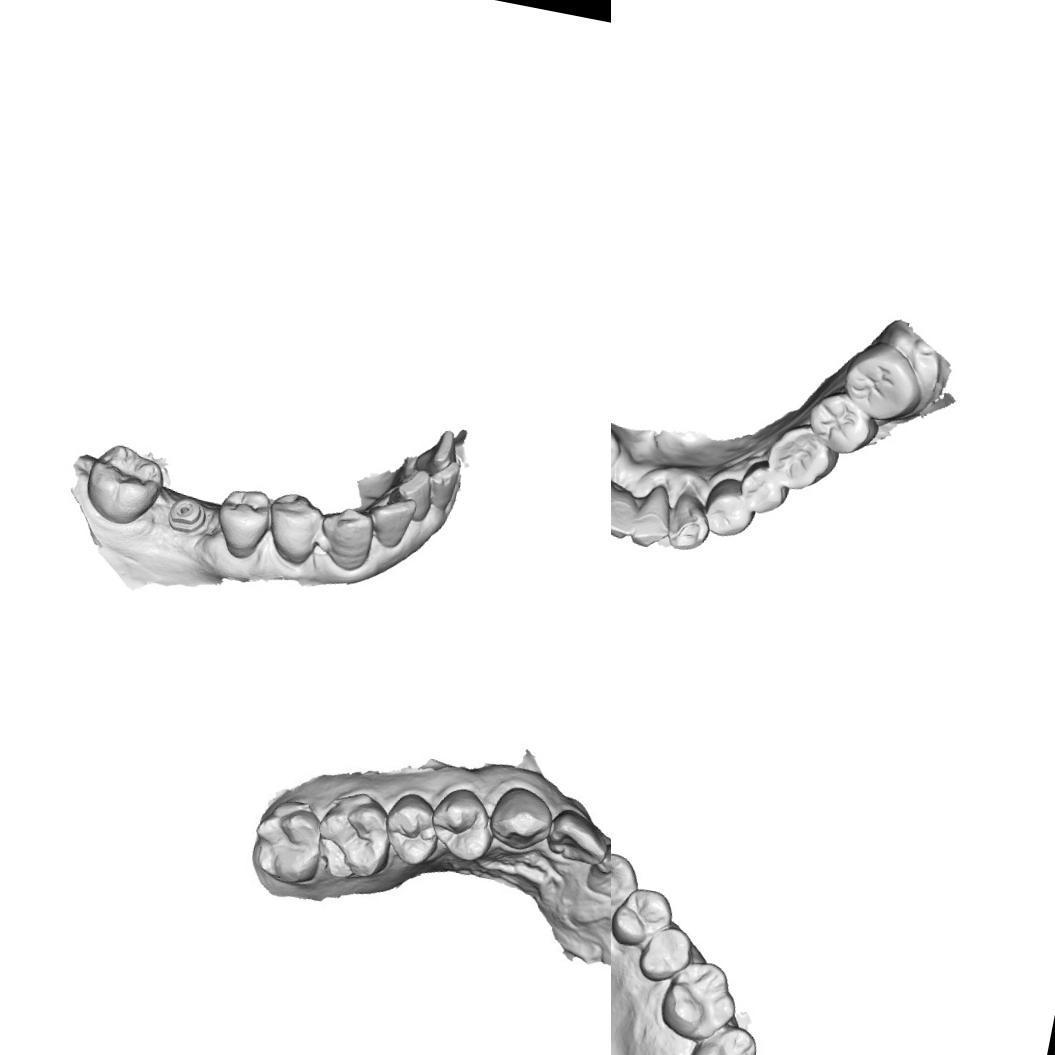canine: (484, 780, 558, 857), (313, 499, 381, 576), (664, 488, 716, 556), (611, 847, 643, 916)
implant_minus: (161, 489, 210, 536)
incisor: (541, 804, 611, 868), (627, 478, 678, 552), (361, 488, 418, 552), (390, 463, 438, 525), (406, 422, 460, 476), (418, 458, 464, 520), (581, 834, 611, 912), (611, 484, 638, 540)
molar: (306, 786, 401, 890), (837, 335, 930, 427), (654, 954, 745, 1048), (79, 438, 169, 532), (244, 798, 330, 890), (762, 414, 844, 497), (802, 385, 884, 460), (681, 1017, 765, 1055)
premolar: (424, 781, 500, 866), (377, 787, 446, 871), (209, 482, 278, 564), (261, 486, 327, 568), (611, 882, 677, 953), (633, 920, 696, 988), (699, 474, 760, 542), (734, 455, 794, 518)
